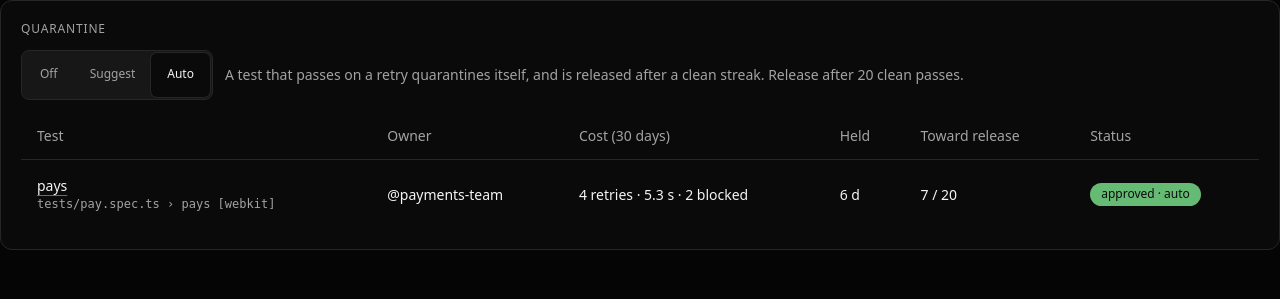
Scenario: ProjectQuarantine › sets the policy and reads it back, and shows a refusal
Click the button "Suggest" at (112, 75), box top-left (74, 53), bottom-right (151, 97)
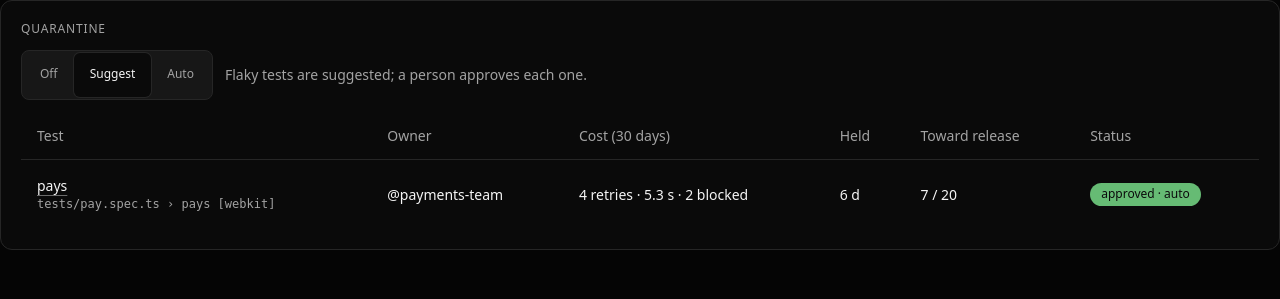
Check: the button "Suggest" is pressed, box top-left (74, 53), bottom-right (151, 97)
Click the button "Auto" at (181, 75), box top-left (151, 53), bottom-right (210, 97)
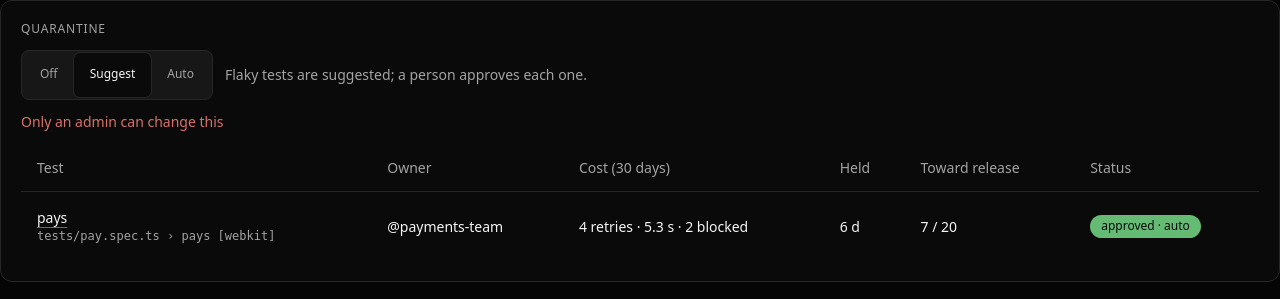
Check: the message with test id "project-quarantine-refused" reads "Only an admin can change this", box top-left (21, 112), bottom-right (224, 131)
